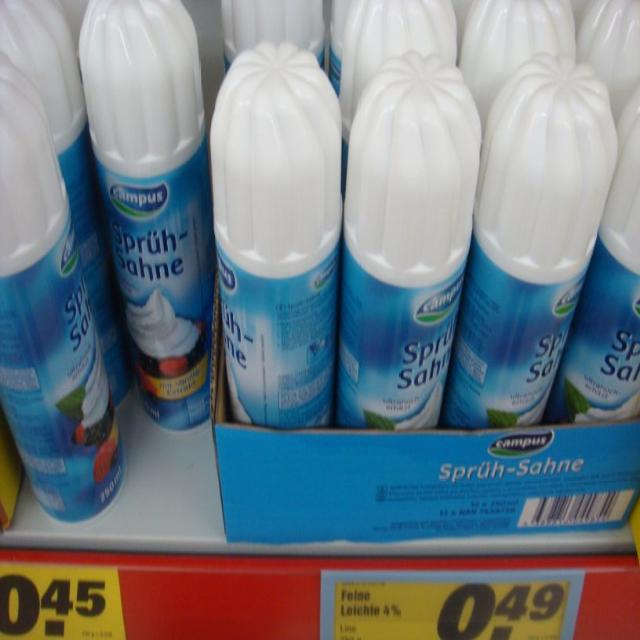cream: (442, 52, 618, 428), (0, 52, 125, 521), (80, 0, 215, 430), (337, 50, 482, 430), (0, 0, 131, 405), (211, 41, 343, 429), (546, 92, 640, 423)
